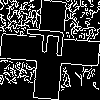F: (25, 25, 73, 59)
